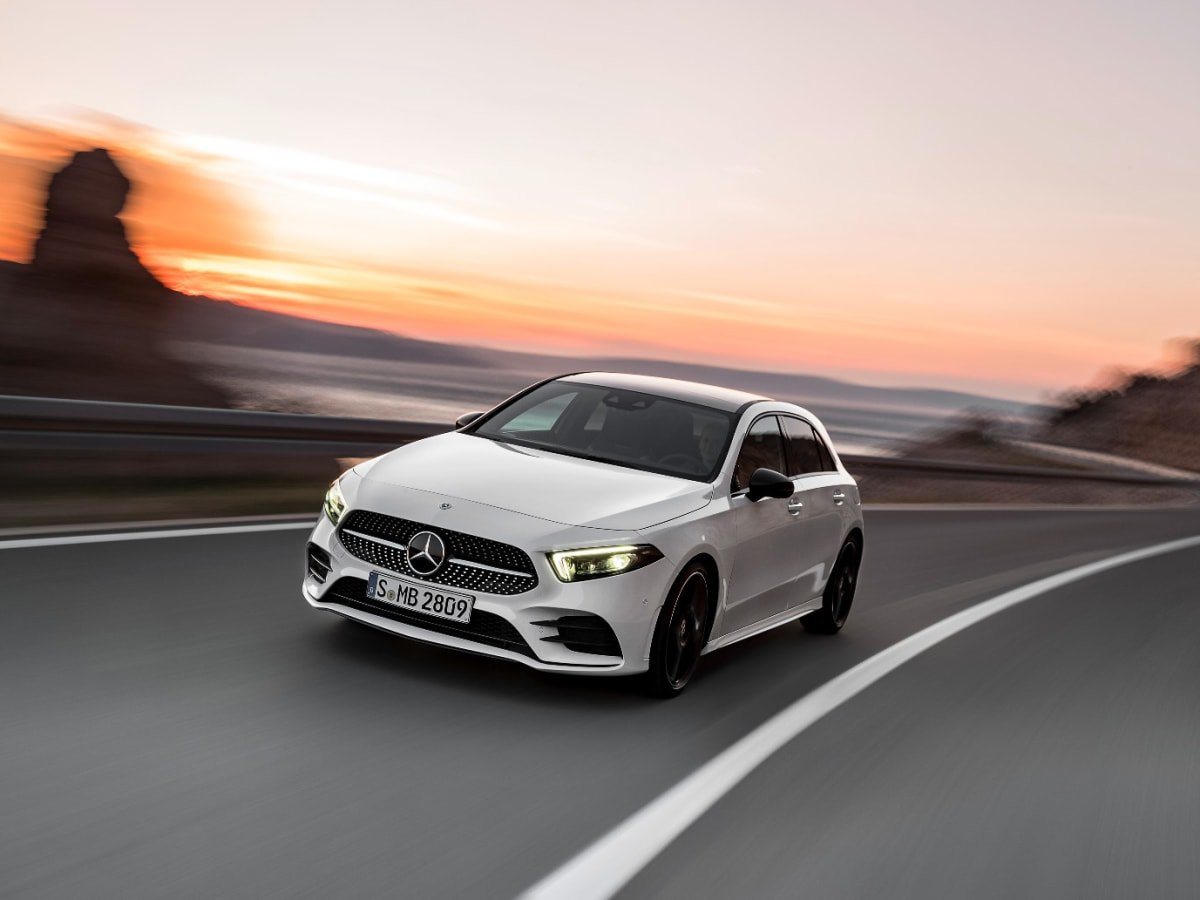car: (304, 366, 863, 722)
